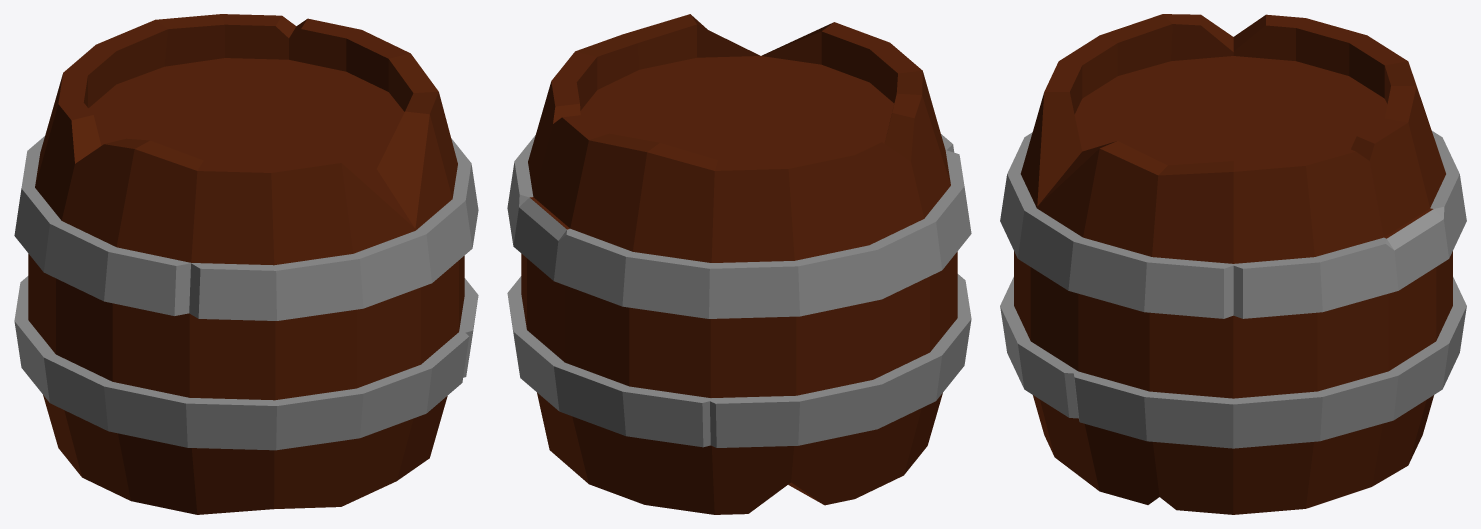
Rendered from Barrel.fbx.
The picture shows the model from 3 angles, left to right: view 1: azimuth 30°, elevation 25°; view 2: azimuth 150°, elevation 25°; view 3: azimuth 270°, elevation 25°; orthographic projection.
Visible parts, largest first — view 1: Barrel; view 2: Barrel; view 3: Barrel.
Part boxes in pixels (x1,y1,x2,y2): Barrel: (14, 14, 478, 514); Barrel: (507, 14, 971, 514); Barrel: (1000, 14, 1466, 514).
Bounding box in the file's own units: 247 × 204 × 247.
